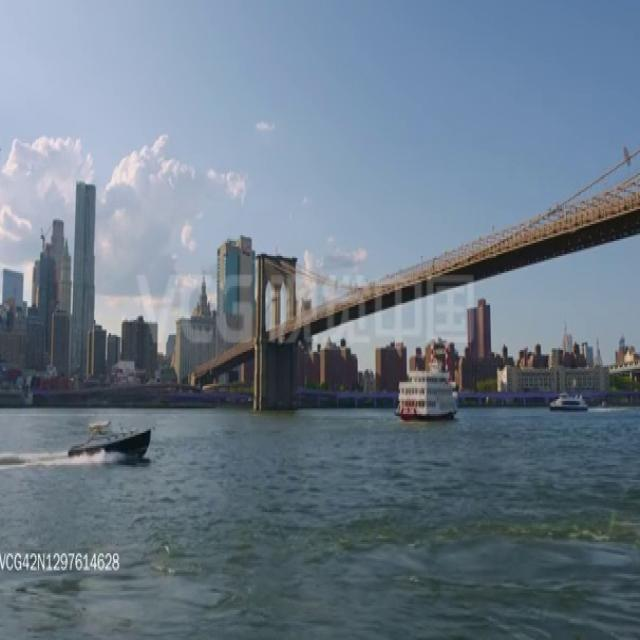houseboat: (64, 416, 148, 464)
passenger ship: (393, 358, 460, 418), (548, 391, 588, 412)
